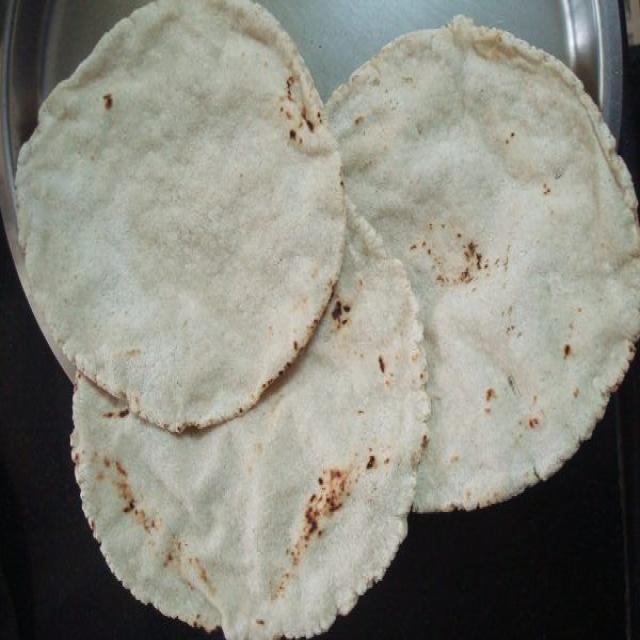RICE BHAKRI: (11, 0, 342, 421)
